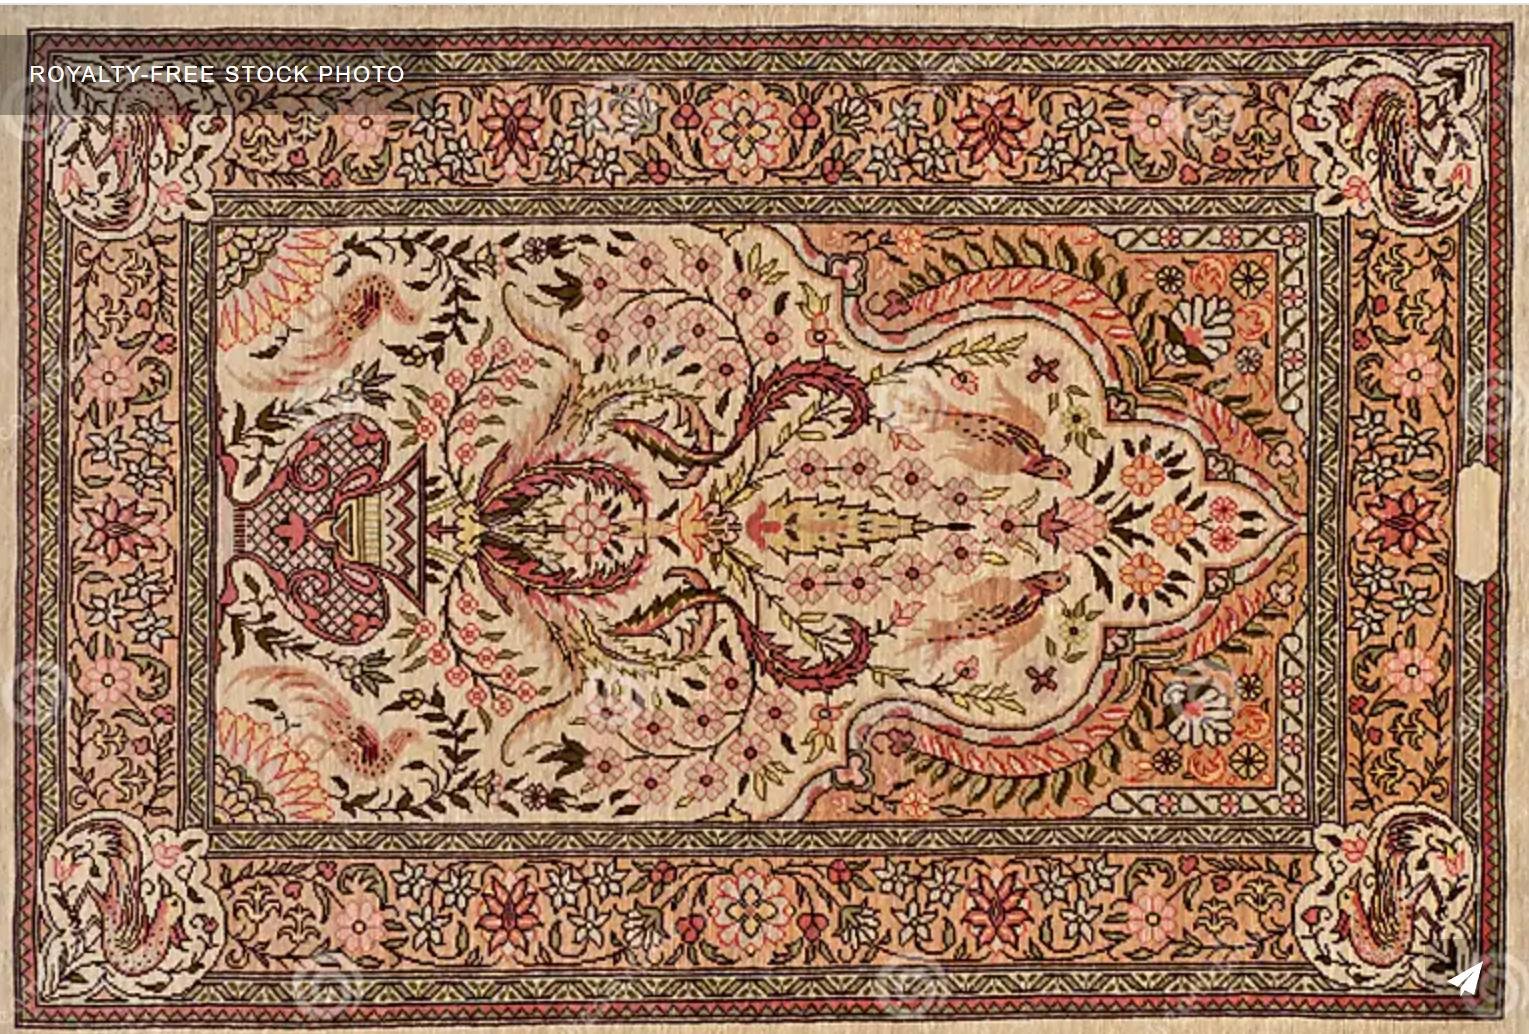carpet: (13, 22, 1520, 1025)
